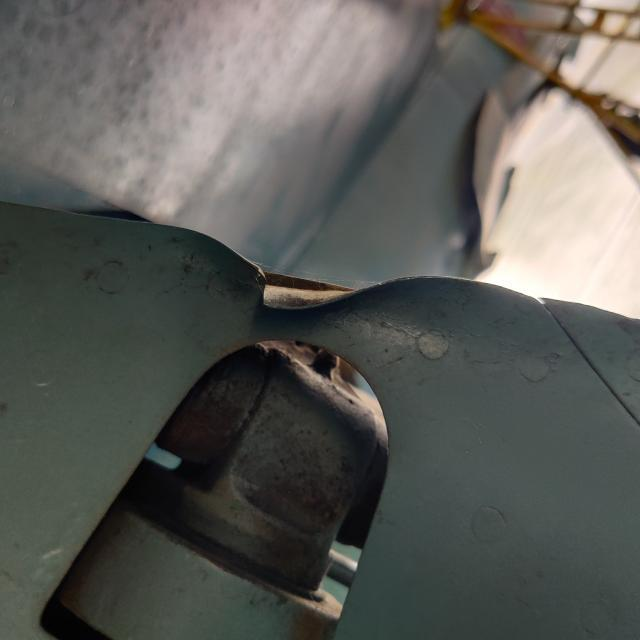crack: (307, 231, 378, 295)
